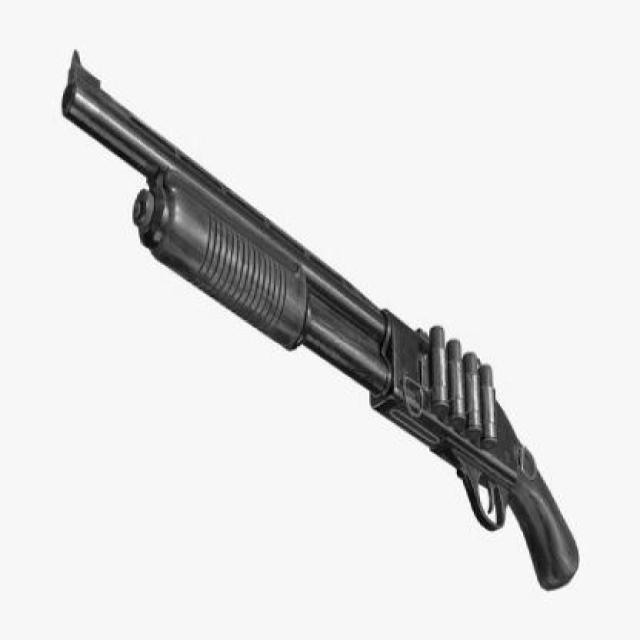weapon: (57, 45, 581, 595)
